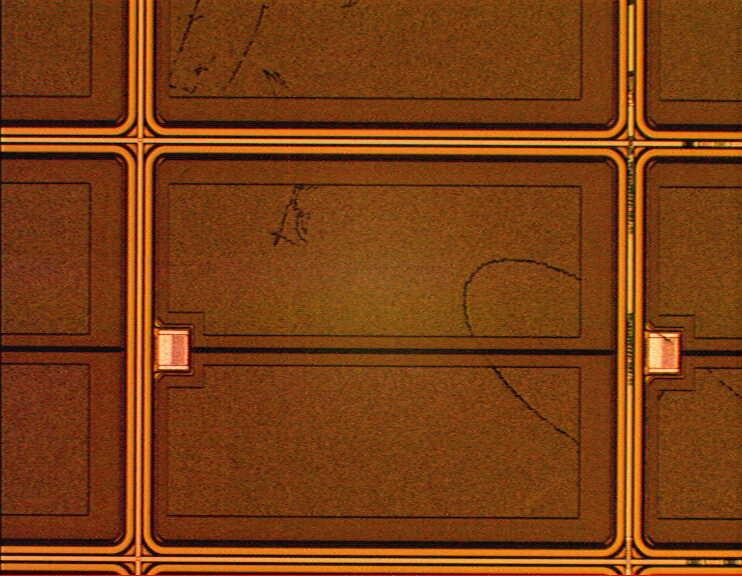SCRATCH: (153, 1, 742, 457)
